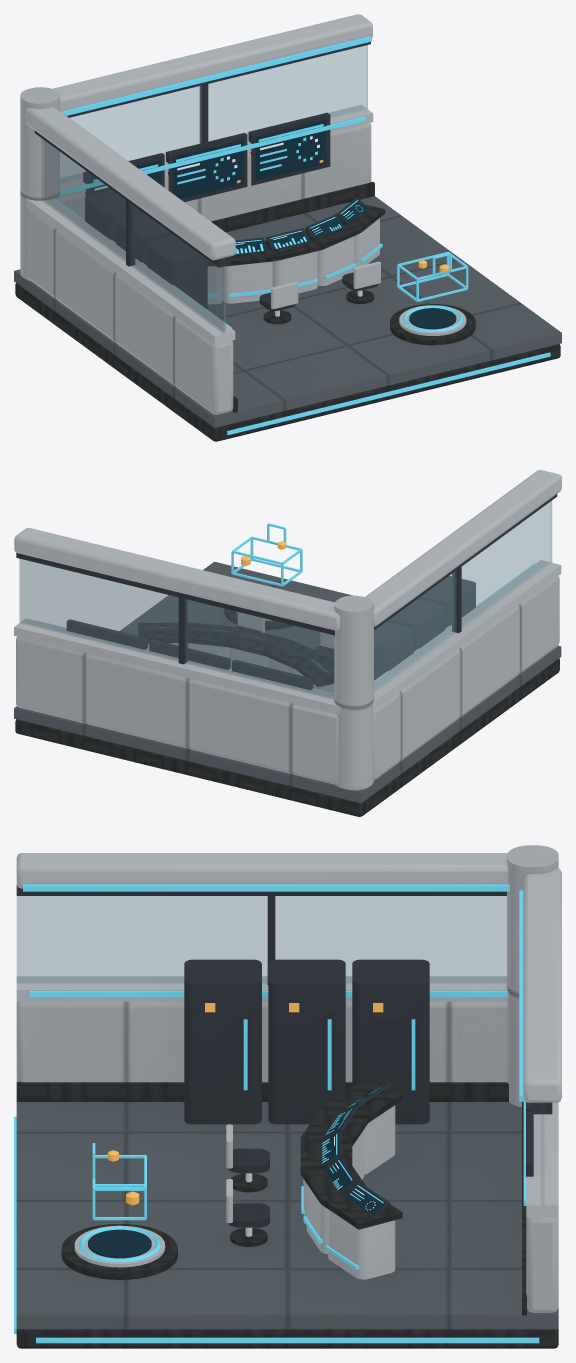
The model's file is enterprise_security_hq.glb.
The picture shows the model from 3 angles, top to bottom: view 1: azimuth 30°, elevation 25°; view 2: azimuth 150°, elevation 25°; view 3: azimuth 270°, elevation 25°; orthographic projection. The views are drawn at different scales.
Visible parts, largest first — view 1: te_enterprise_security_hq; view 2: te_enterprise_security_hq; view 3: te_enterprise_security_hq.
Part boxes in pixels (left/top/right/bottom): te_enterprise_security_hq: left=14, top=14, right=561, bottom=441; te_enterprise_security_hq: left=14, top=470, right=561, bottom=816; te_enterprise_security_hq: left=14, top=845, right=561, bottom=1348.
Bounding box in the file's own units: 0.849 × 0.472 × 0.849.
Materials: 2 (1 with a texture image).
